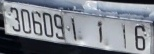0: (20, 7, 32, 35), (42, 12, 54, 38)
3: (8, 6, 21, 34)
6: (133, 25, 147, 52), (31, 10, 43, 36)
9: (53, 12, 66, 40)
a: (95, 18, 104, 44)
